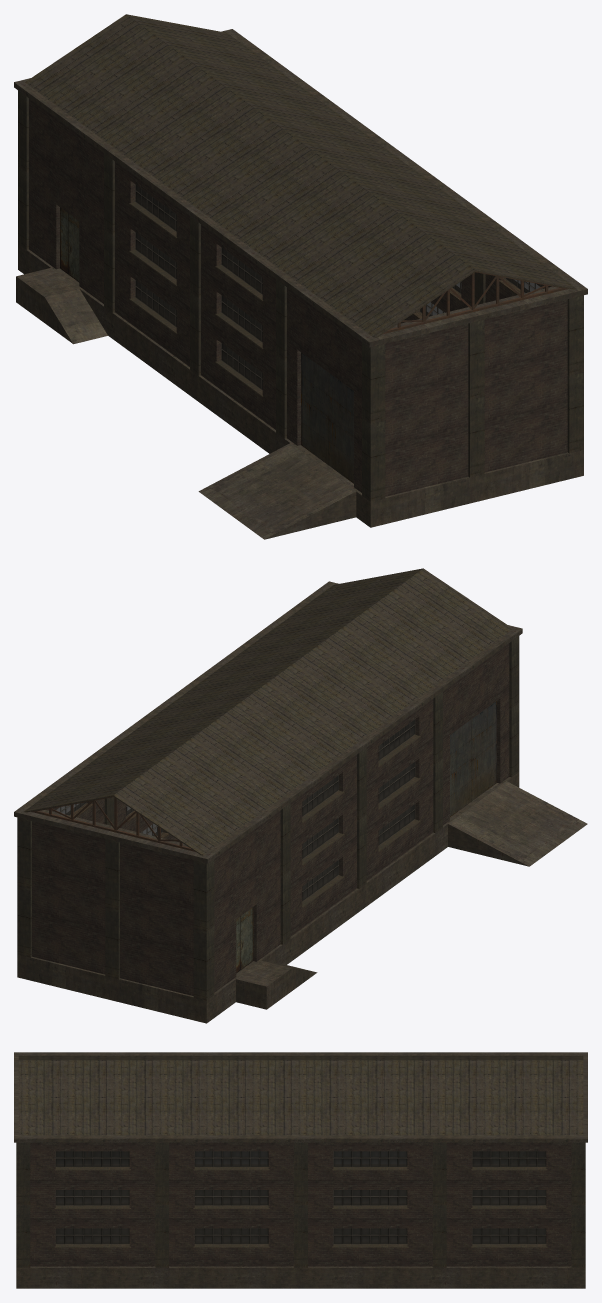
File: warehouse_mx_4.glb
3 views of the same model, one above another, from view 1: azimuth 30°, elevation 25°; view 2: azimuth 150°, elevation 25°; view 3: azimuth 270°, elevation 25° (orthographic). The views are drawn at different scales.
Visible parts, largest first — view 1: warehouse_mx_4, garage_door_hr_4_a_piece_1, garage_door_hr_4_a_piece_2, door_hm_1_a_piece_2; view 2: warehouse_mx_4, garage_door_hr_4_a_piece_2, garage_door_hr_4_a_piece_1, door_hm_1_a_piece_2; view 3: warehouse_mx_4.
Boxes of the visible parts, x1,y1,x2,y2 form: warehouse_mx_4: [14, 14, 587, 539]; garage_door_hr_4_a_piece_1: [301, 352, 328, 465]; garage_door_hr_4_a_piece_2: [329, 373, 353, 483]; door_hm_1_a_piece_2: [68, 214, 79, 282]; warehouse_mx_4: [14, 568, 587, 1023]; garage_door_hr_4_a_piece_2: [471, 701, 496, 800]; garage_door_hr_4_a_piece_1: [450, 719, 471, 816]; door_hm_1_a_piece_2: [240, 907, 253, 969]; warehouse_mx_4: [14, 1052, 587, 1288].
Bounding box in the file's own units: 12.4 × 8.87 × 24.8.
11 materials, 11 textured.
